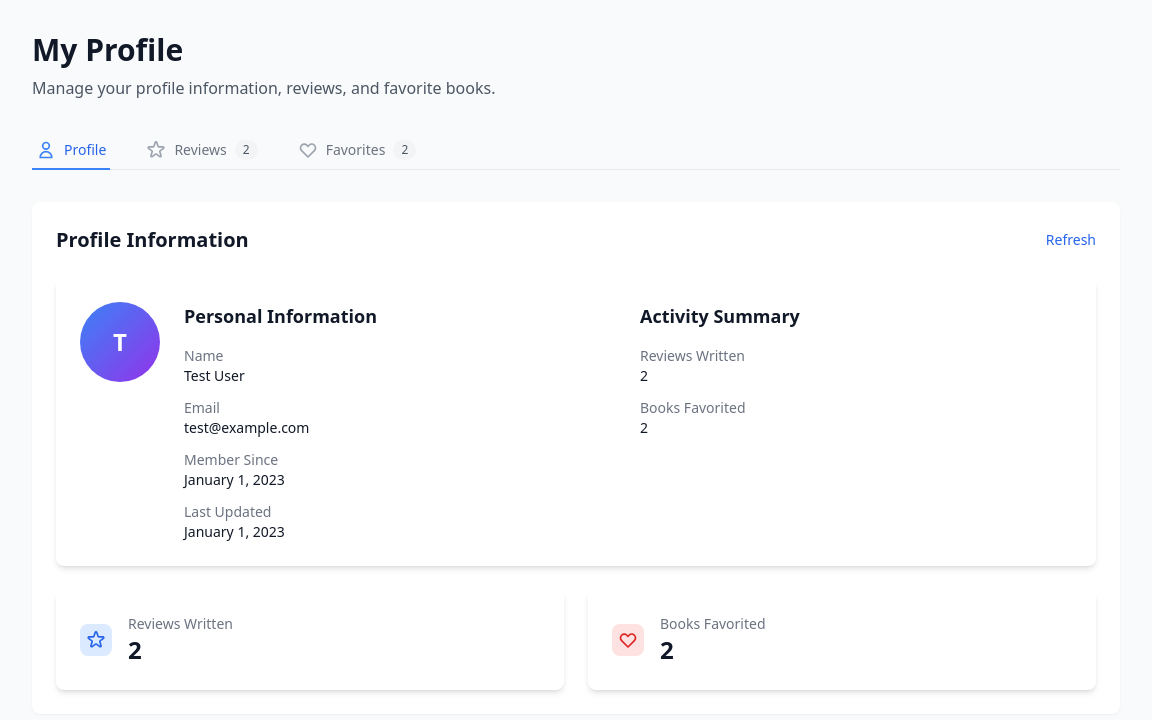
User Profile Workflow Integration Tests › Favorites Management Workflow › should handle favorites loading error
Note: Switch to favorites tab
What coordinates should you click on to do the following:
click the button "Favorites 2"
I would click on:
 (357, 151)
Its box is [294,132,420,170].
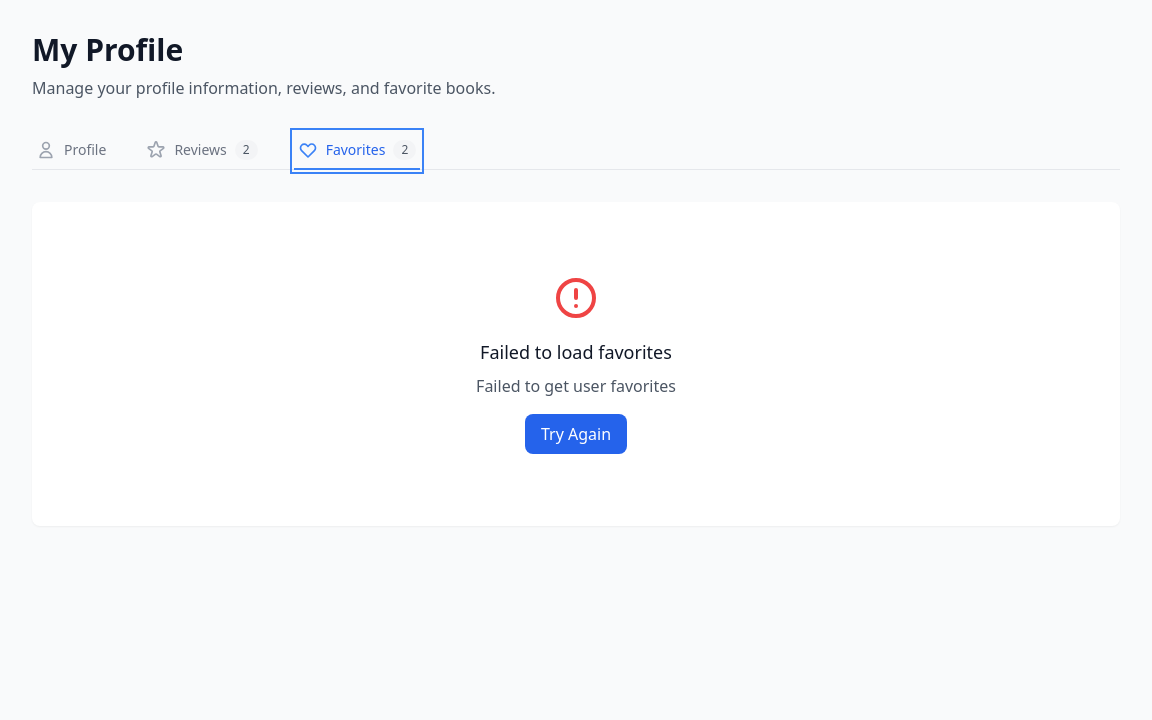
Result: the heading "Failed to load favorites" is shown at [480,340,672,364]
Result: the button "Try Again" is shown at [525,414,627,454]
